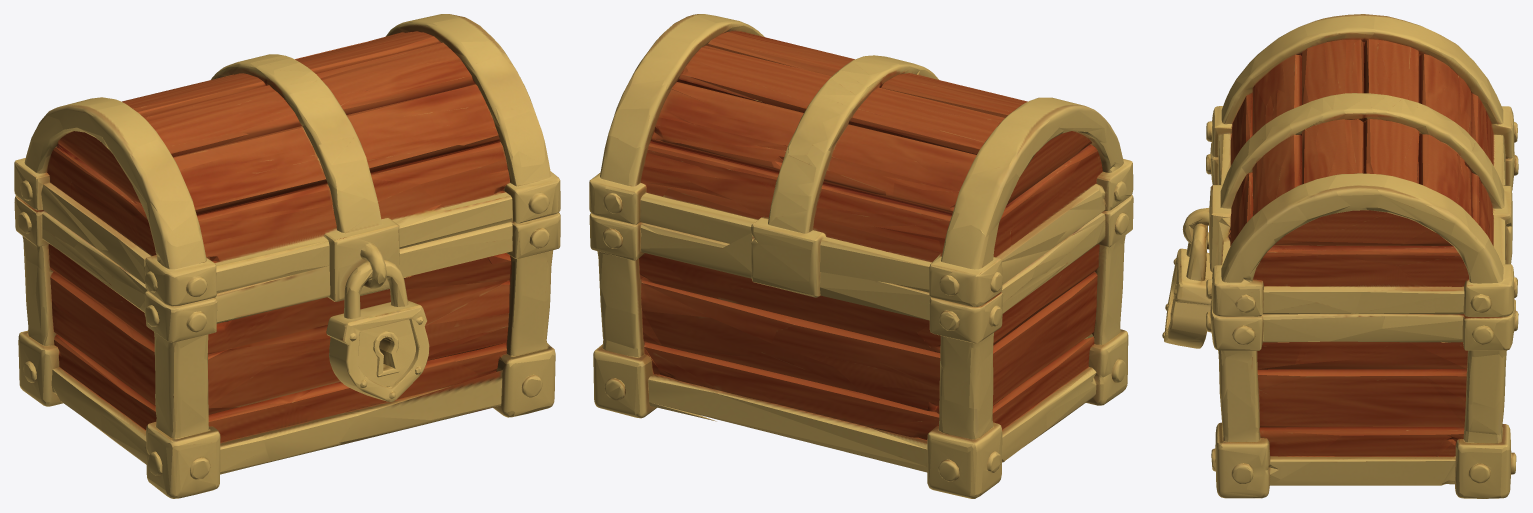
File: bau.glb
The picture shows the model from 3 angles, left to right: view 1: azimuth 30°, elevation 25°; view 2: azimuth 150°, elevation 25°; view 3: azimuth 270°, elevation 25°; orthographic projection. The views are drawn at different scales.
Bounding box in the file's own units: 1.9 × 1.49 × 1.54.
1 material, 1 textured.
